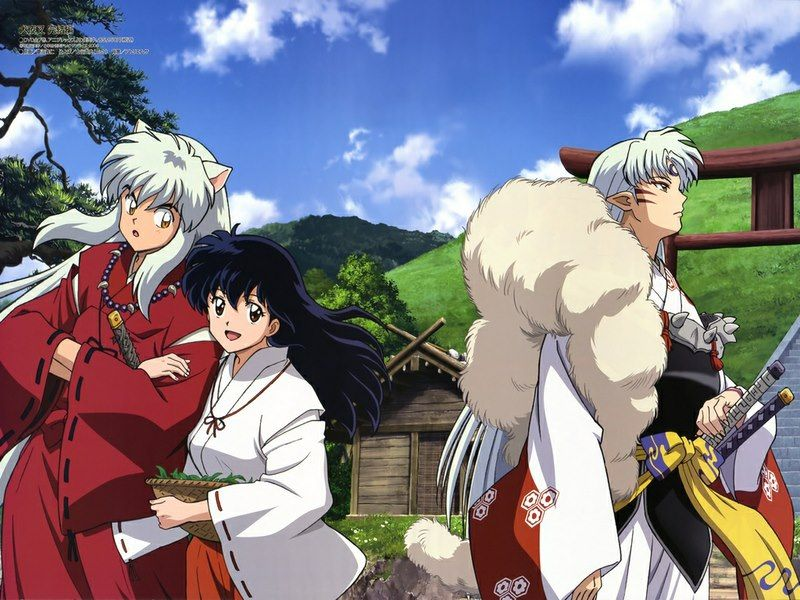sesshomaru: (569, 123, 707, 277)
